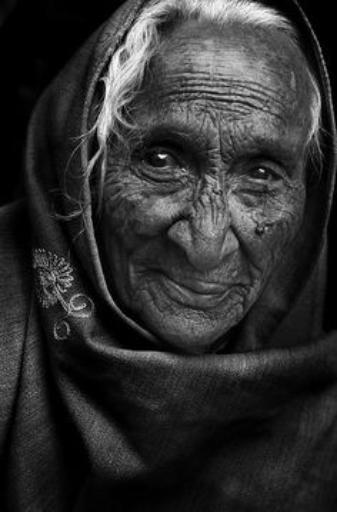left_eye: (241, 160, 284, 188)
left_lip_corner: (225, 276, 242, 299)
right_eye: (136, 140, 188, 177)
right_lip_corner: (149, 263, 166, 283)
